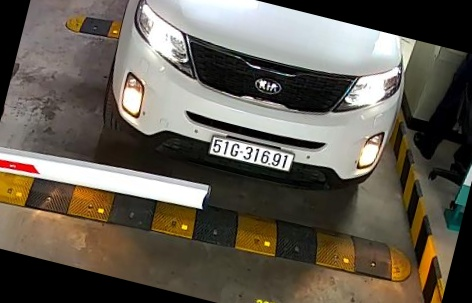plate: (208, 127, 297, 175)
